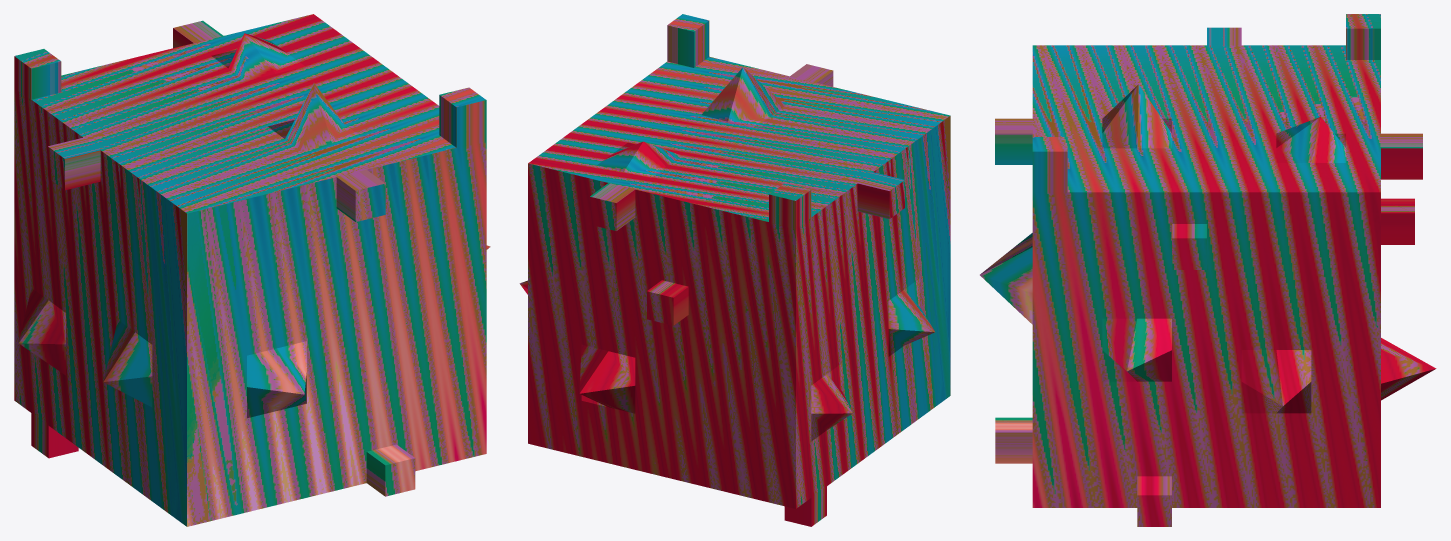
File: weird_cube.obj
The picture shows the model from 3 angles, left to right: view 1: azimuth 30°, elevation 25°; view 2: azimuth 150°, elevation 25°; view 3: azimuth 270°, elevation 25°; orthographic projection. The views are drawn at different scales.
Visible parts, largest first — view 1: Cube; view 2: Cube; view 3: Cube.
Boxes of the visible parts, x1,y1,x2,y2 form: Cube: (14, 14, 490, 526); Cube: (519, 14, 950, 526); Cube: (980, 14, 1436, 526).
Size of the model in its own units: 2.63 by 2.56 by 2.63.
